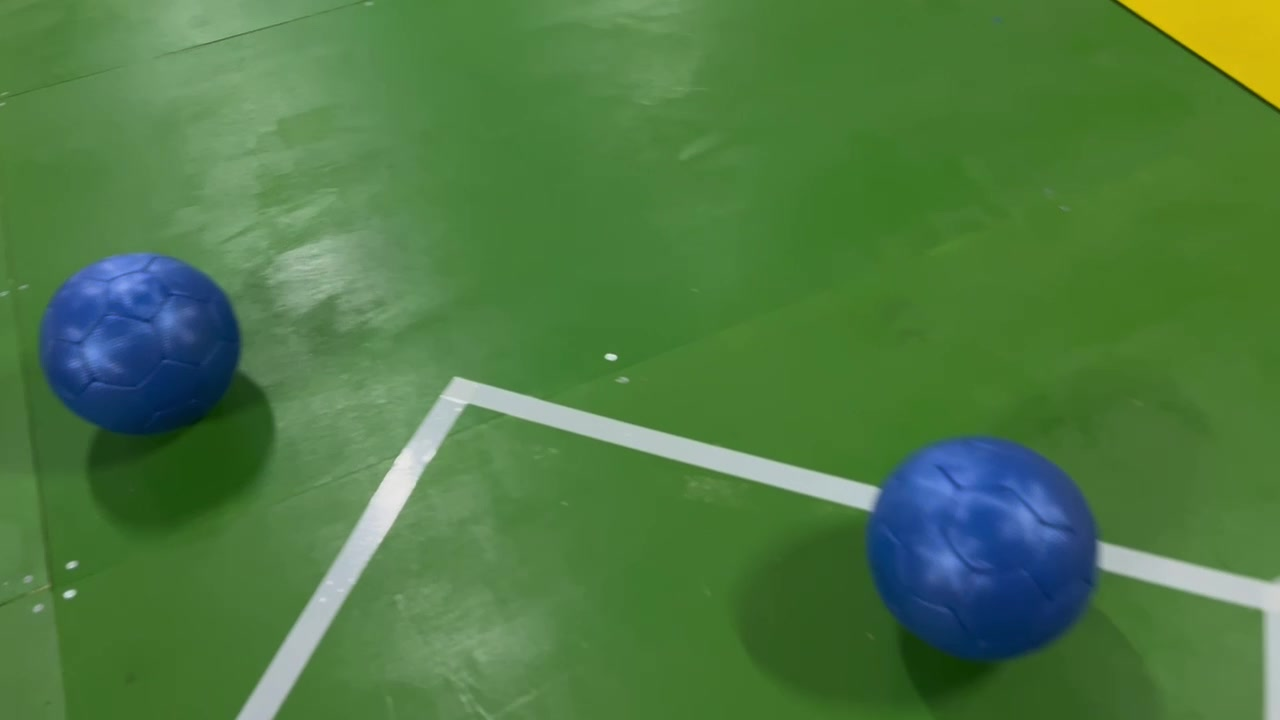blue: (854, 423, 1115, 672), (42, 255, 247, 446)
